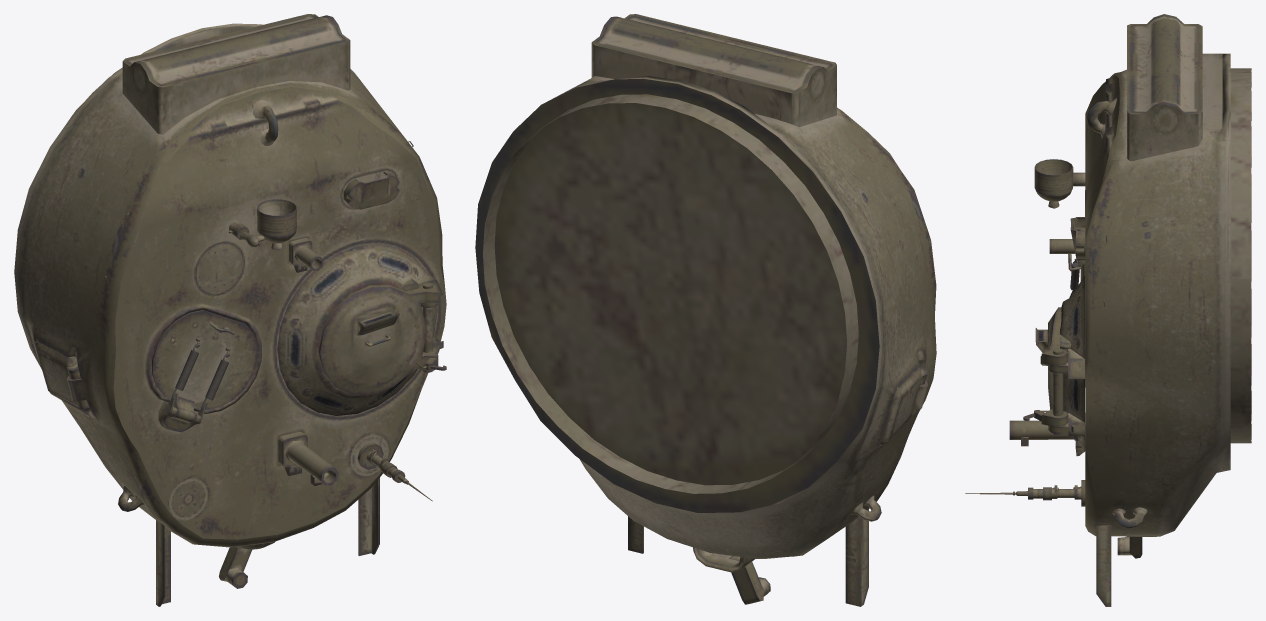
Rendered from Turret_02.glb.
3 renders of one model, left to right at view 1: azimuth 30°, elevation 25°; view 2: azimuth 150°, elevation 25°; view 3: azimuth 270°, elevation 25°, orthographic. The views are drawn at different scales.
Visible parts, largest first — view 1: set_0_group_0; view 2: set_0_group_0; view 3: set_0_group_0.
Boxes of the visible parts, bbox=[...] form: set_0_group_0: bbox=[14, 14, 446, 606]; set_0_group_0: bbox=[475, 14, 936, 606]; set_0_group_0: bbox=[965, 14, 1251, 606].
Size of the model in its own units: 2.07 by 2.78 by 1.42.
1 material, 1 textured.
